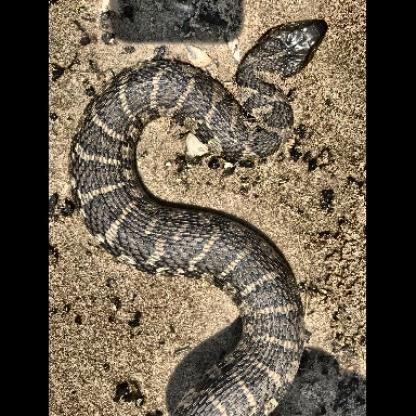Snake: (70, 9, 337, 412)
